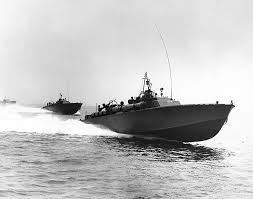boat: (81, 72, 235, 144), (42, 93, 84, 117), (1, 95, 17, 108)
